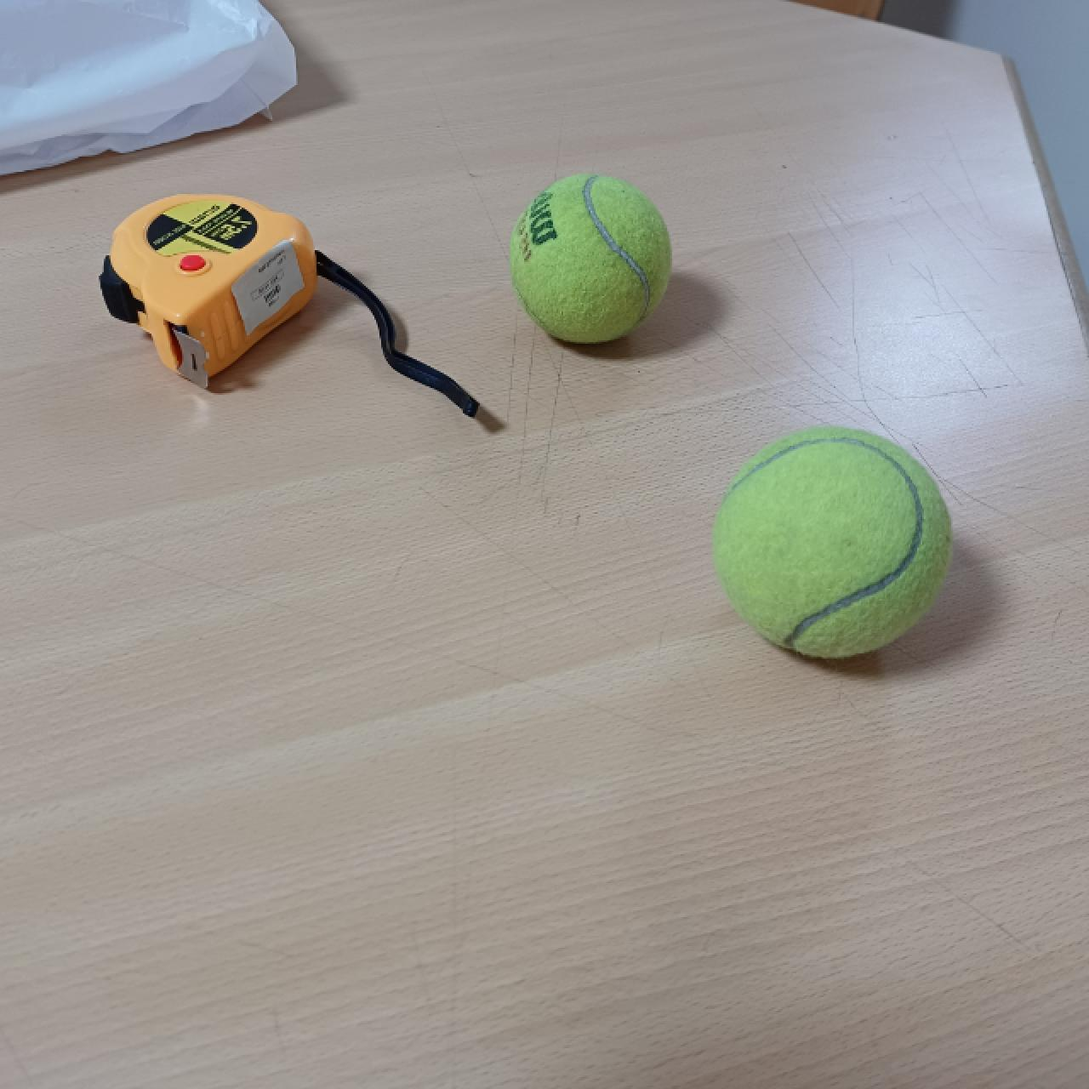tennis-ball: (712, 422, 950, 667), (505, 171, 671, 351)
